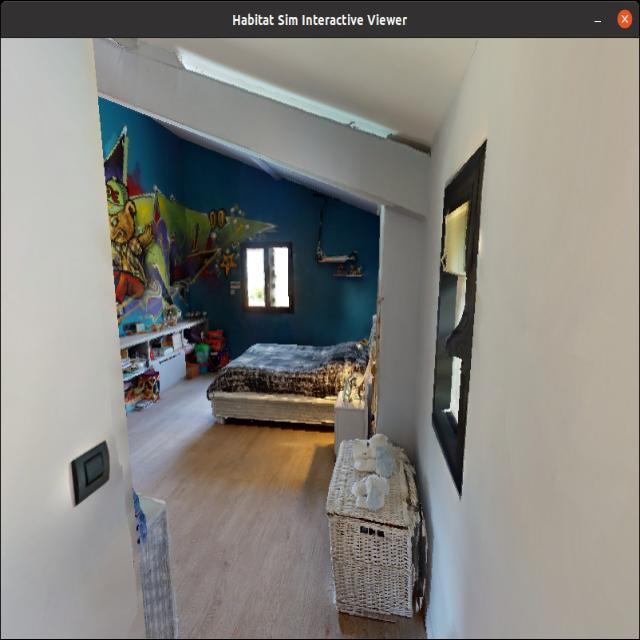bed: (200, 333, 385, 446)
